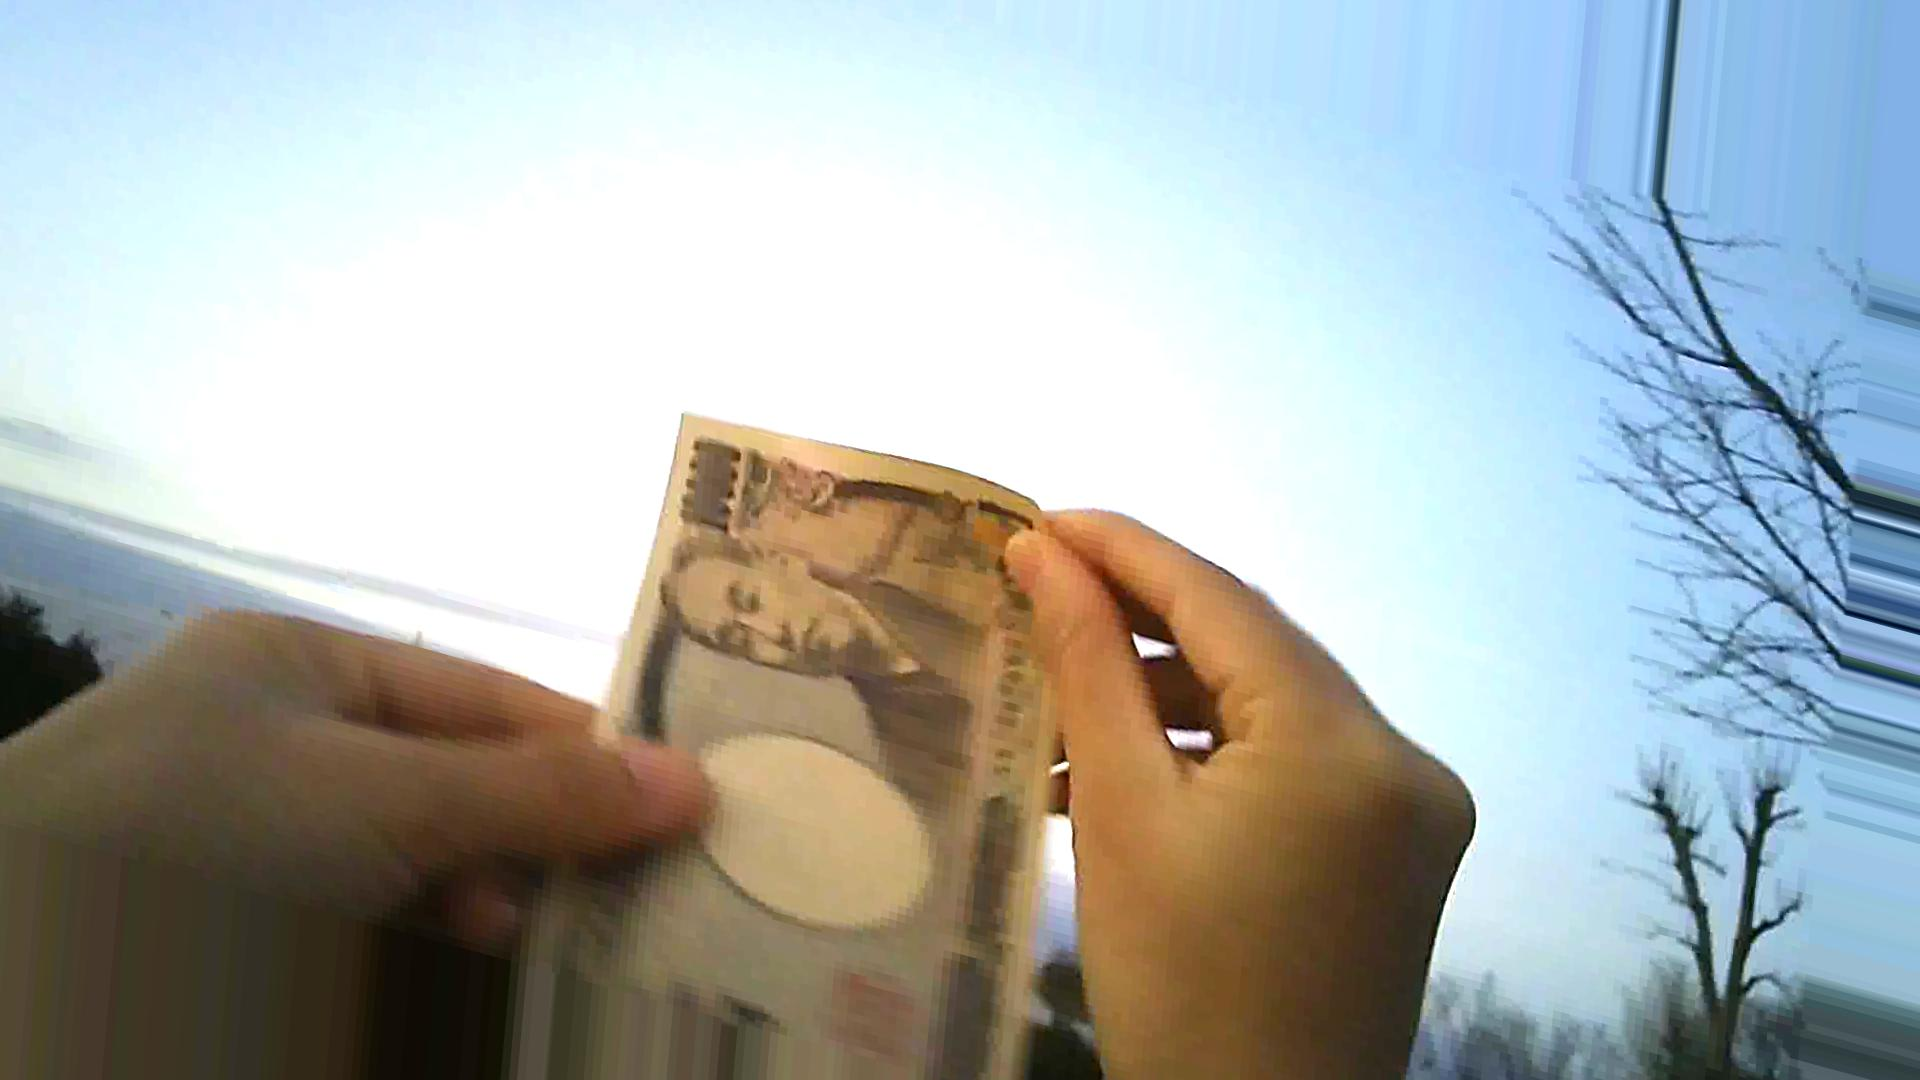10,000 Yen: (535, 380, 1065, 1007)
